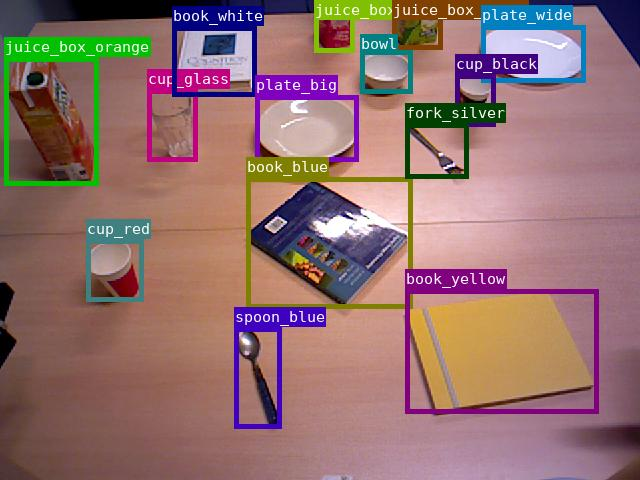book_blue: (246, 177, 412, 308)
book_white: (172, 26, 256, 96)
book_yellow: (405, 289, 598, 413)
bowl: (360, 50, 412, 93)
cup_black: (455, 74, 495, 126)
cup_glass: (147, 89, 197, 161)
cup_red: (86, 239, 143, 301)
fork_silver: (405, 123, 468, 178)
juice_box_green: (392, 0, 442, 49)
juice_box_orange: (4, 57, 98, 185)
juice_box_pink: (314, 0, 354, 52)
plate_big: (255, 95, 358, 161)
plate_wide: (481, 25, 585, 82)
spoon_blue: (234, 327, 281, 428)
